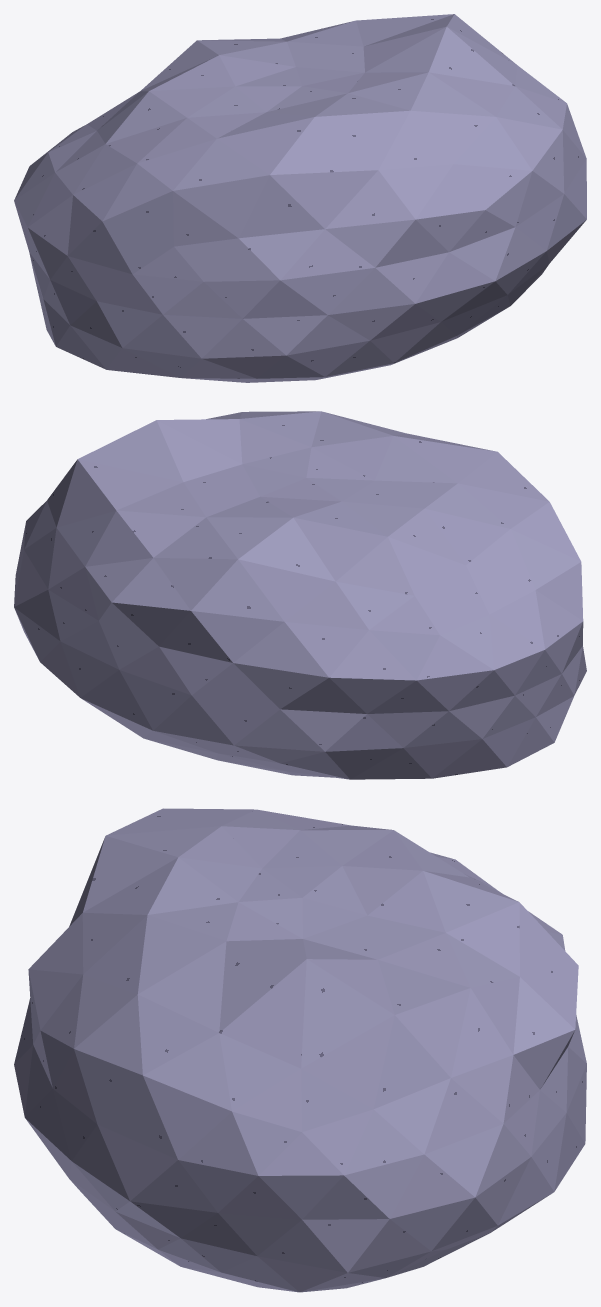
File: Stein_1.fbx
3 views of the same model, one above another, from view 1: azimuth 30°, elevation 25°; view 2: azimuth 150°, elevation 25°; view 3: azimuth 270°, elevation 25° (orthographic). The views are drawn at different scales.
Visible parts, largest first — view 1: Icosphere; view 2: Icosphere; view 3: Icosphere.
Boxes of the visible parts, x1,y1,x2,y2 form: Icosphere: (14, 14, 586, 382); Icosphere: (14, 411, 586, 779); Icosphere: (14, 808, 586, 1292).
Bounding box in the file's own units: 819 × 435 × 627.
